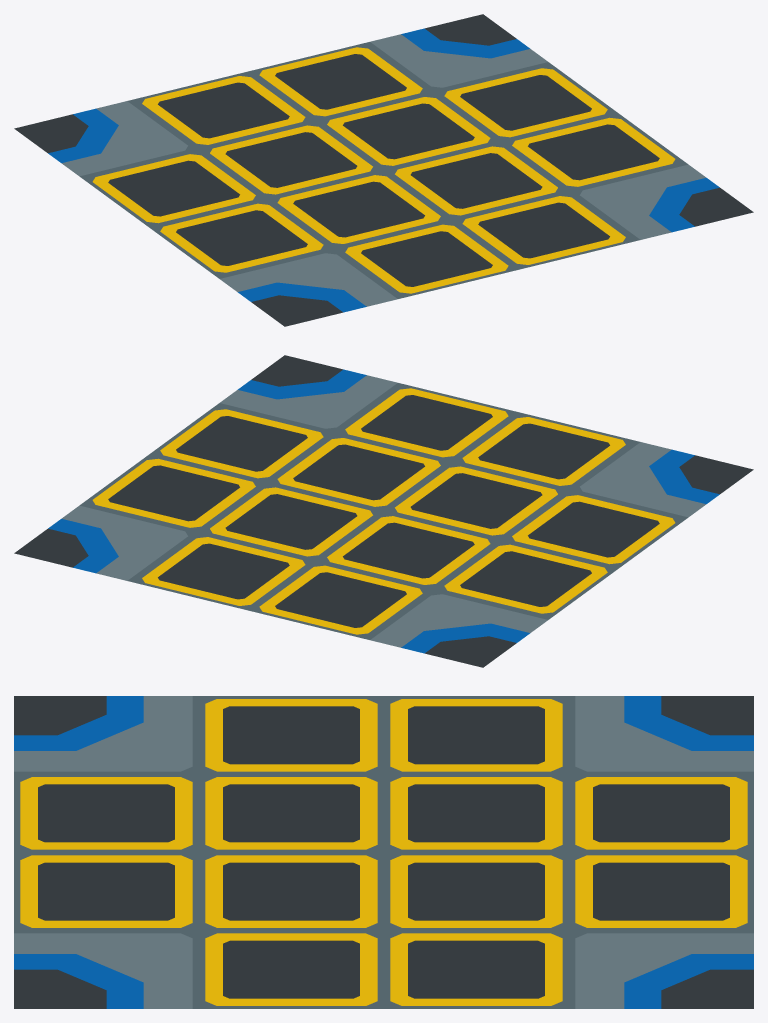
File: Floor_type_C_004.fbx
3 views of the same model, one above another, from view 1: azimuth 30°, elevation 25°; view 2: azimuth 150°, elevation 25°; view 3: azimuth 270°, elevation 25° (orthographic). The views are drawn at different scales.
Visible parts, largest first — view 1: Floor_type_C_004; view 2: Floor_type_C_004; view 3: Floor_type_C_004.
Part boxes in pixels (box(x1,y1,x2,y2)): Floor_type_C_004: box(14, 14, 753, 326); Floor_type_C_004: box(14, 355, 753, 667); Floor_type_C_004: box(14, 696, 753, 1008).
Bounding box in the file's own units: 400 × 400 × 1.69e-21.
